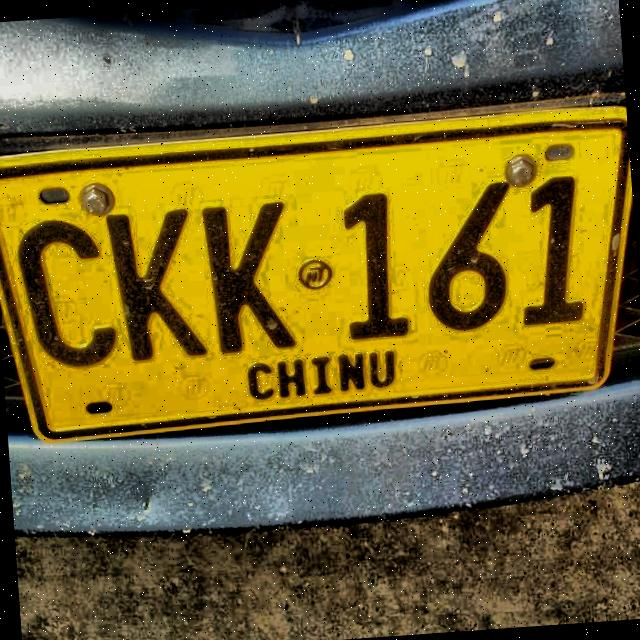plate: (0, 117, 622, 435)
